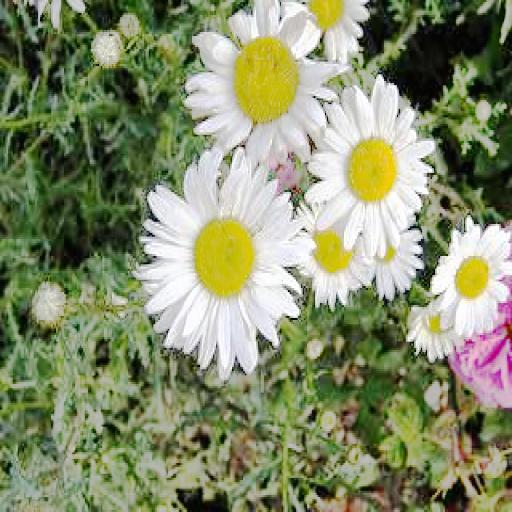daisy: (144, 166, 310, 365), (194, 9, 326, 147), (310, 85, 430, 235), (437, 224, 509, 326), (301, 222, 373, 301), (301, 2, 371, 58), (366, 230, 424, 294), (410, 301, 462, 358)
